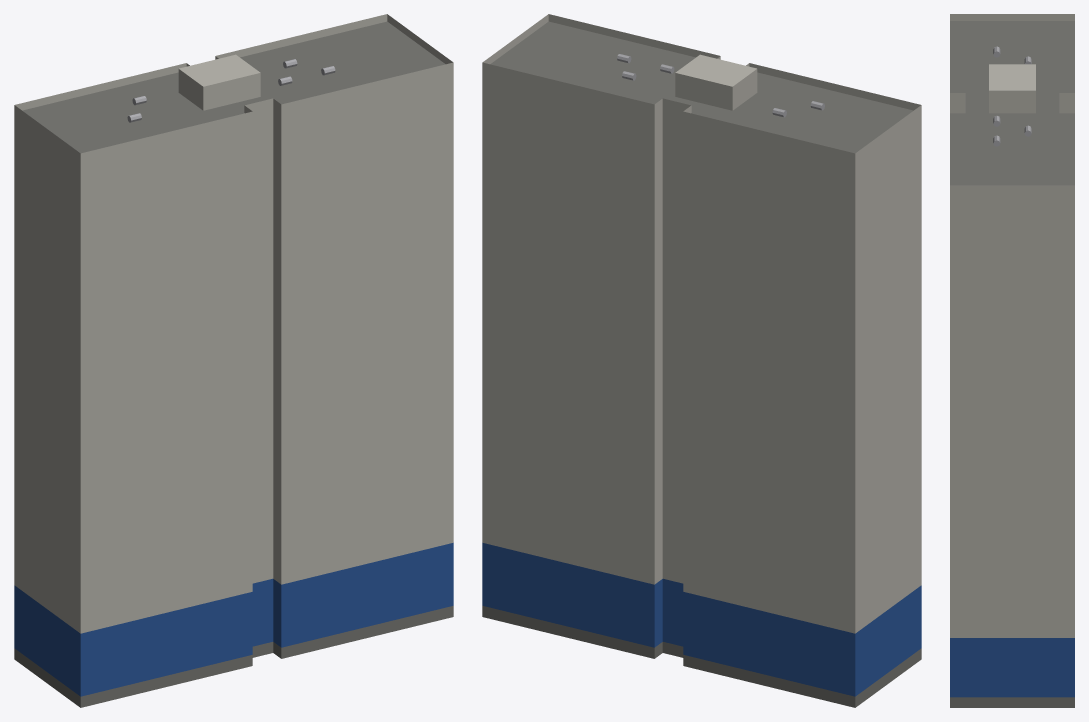
The picture shows the model from 3 angles, left to right: view 1: azimuth 30°, elevation 25°; view 2: azimuth 150°, elevation 25°; view 3: azimuth 270°, elevation 25°; orthographic projection. The views are drawn at different scales.
Parts seen in each view (by area): view 1: TW_T3_21F_LOD0; view 2: TW_T3_21F_LOD0; view 3: TW_T3_21F_LOD0.
Part boxes in pixels (left/top/right/bottom): TW_T3_21F_LOD0: left=14, top=14, right=453, bottom=707; TW_T3_21F_LOD0: left=482, top=14, right=921, bottom=707; TW_T3_21F_LOD0: left=950, top=14, right=1074, bottom=707.
Size of what is drawn, in the model's own units: 52 by 76.1 by 16.
